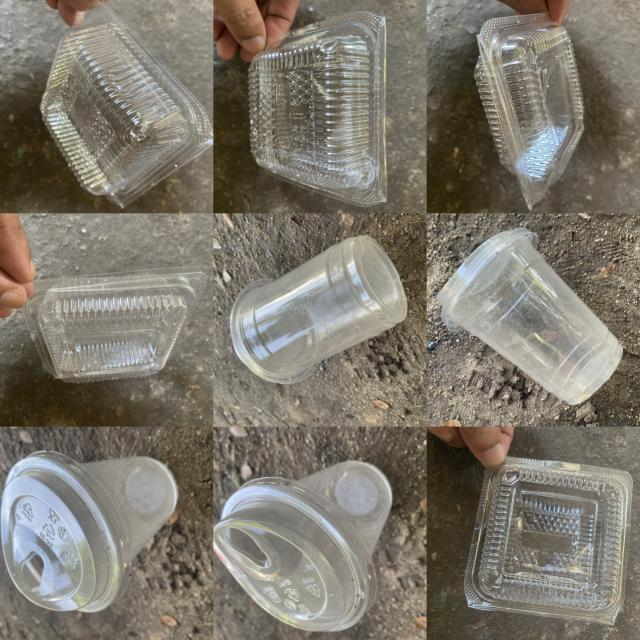Single-Use-Plastic: (40, 4, 212, 208), (438, 228, 622, 405), (214, 461, 392, 631), (1, 451, 178, 612), (465, 458, 632, 624), (249, 11, 386, 206), (230, 235, 408, 383), (22, 266, 208, 382), (475, 14, 584, 208)
